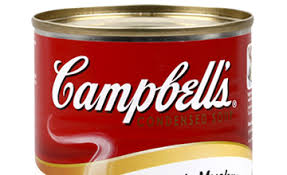can: (29, 2, 259, 175)
